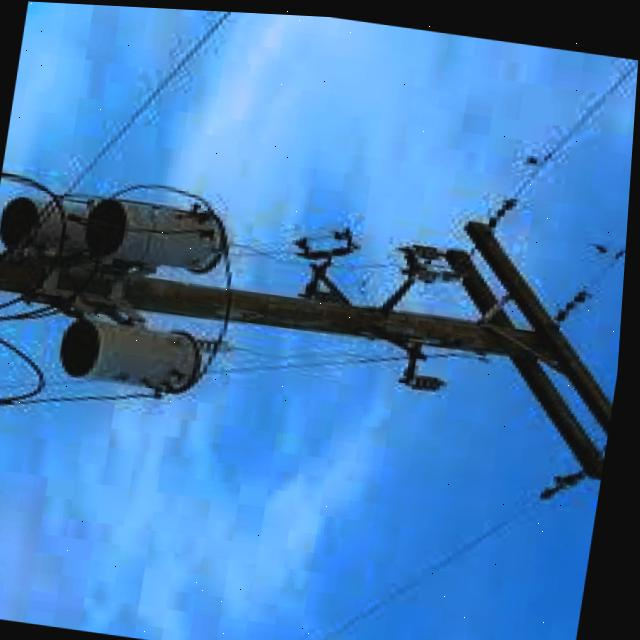poles: (0, 196, 617, 440)
wires: (34, 9, 229, 291), (326, 515, 518, 640), (507, 92, 605, 199), (0, 334, 53, 408), (54, 387, 138, 407), (560, 278, 592, 313), (604, 241, 629, 271), (0, 296, 52, 310), (542, 478, 567, 493)
